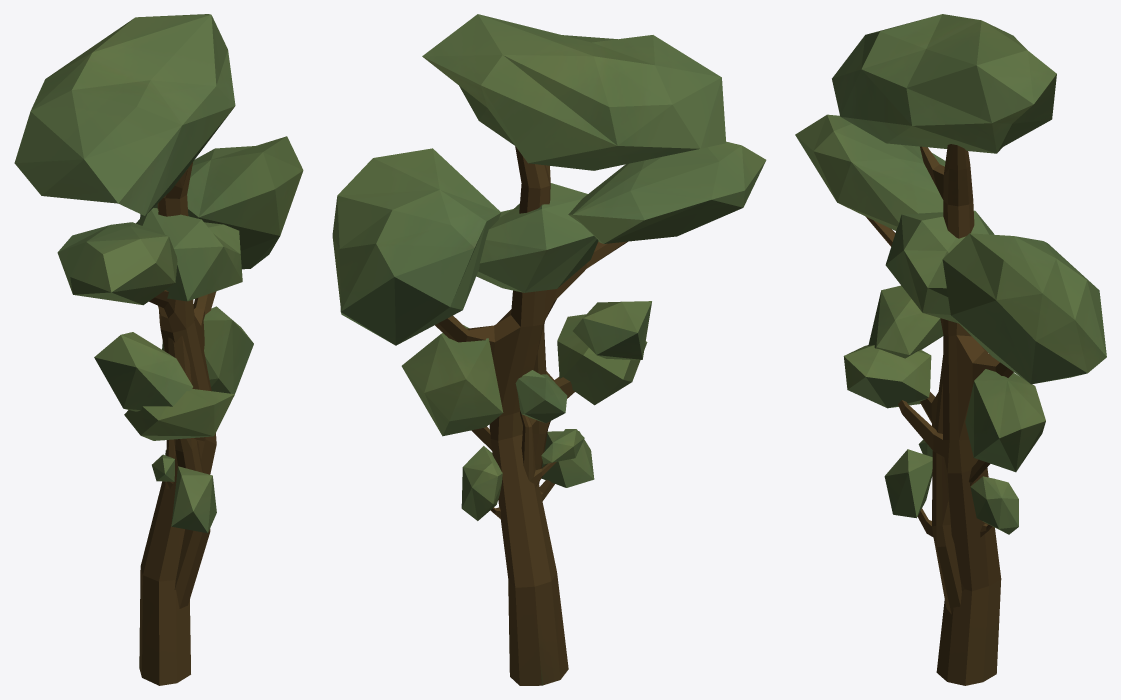
The model's file is tree1V1.1.fbx.
3 renders of one model, left to right at view 1: azimuth 30°, elevation 25°; view 2: azimuth 150°, elevation 25°; view 3: azimuth 270°, elevation 25°, orthographic. The views are drawn at different scales.
Visible parts, largest first — view 1: Tree1, Tree1Stage3, Tree1Stage2; view 2: Tree1, Tree1Stage3, Tree1Stage2; view 3: Tree1, Tree1Stage3, Tree1Stage2.
Boxes of the visible parts, <box> form: Tree1: <box>14,14,303,685</box>; Tree1Stage3: <box>94,208,253,608</box>; Tree1Stage2: <box>152,439,175,489</box>; Tree1: <box>332,14,766,685</box>; Tree1Stage3: <box>401,183,651,501</box>; Tree1Stage2: <box>461,370,584,520</box>; Tree1: <box>795,14,1106,685</box>; Tree1Stage3: <box>868,210,1045,613</box>; Tree1Stage2: <box>918,439,1018,591</box>.
Bounding box in the file's own units: 199 × 379 × 169.
